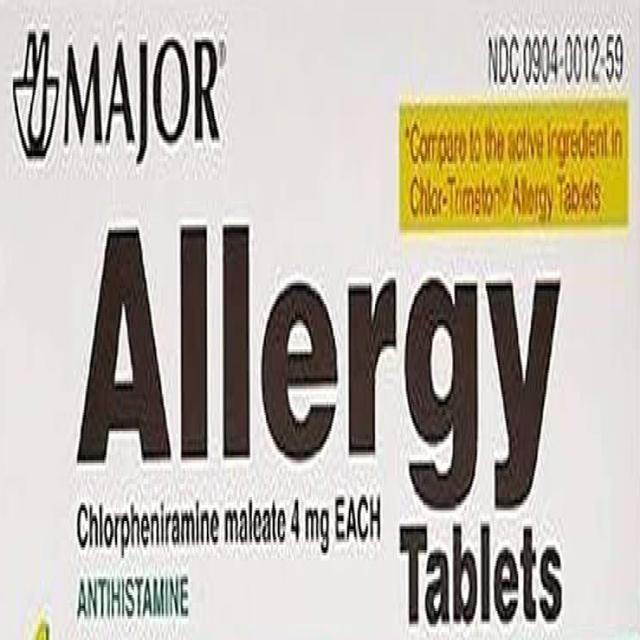drug-name: (74, 223, 570, 519)
